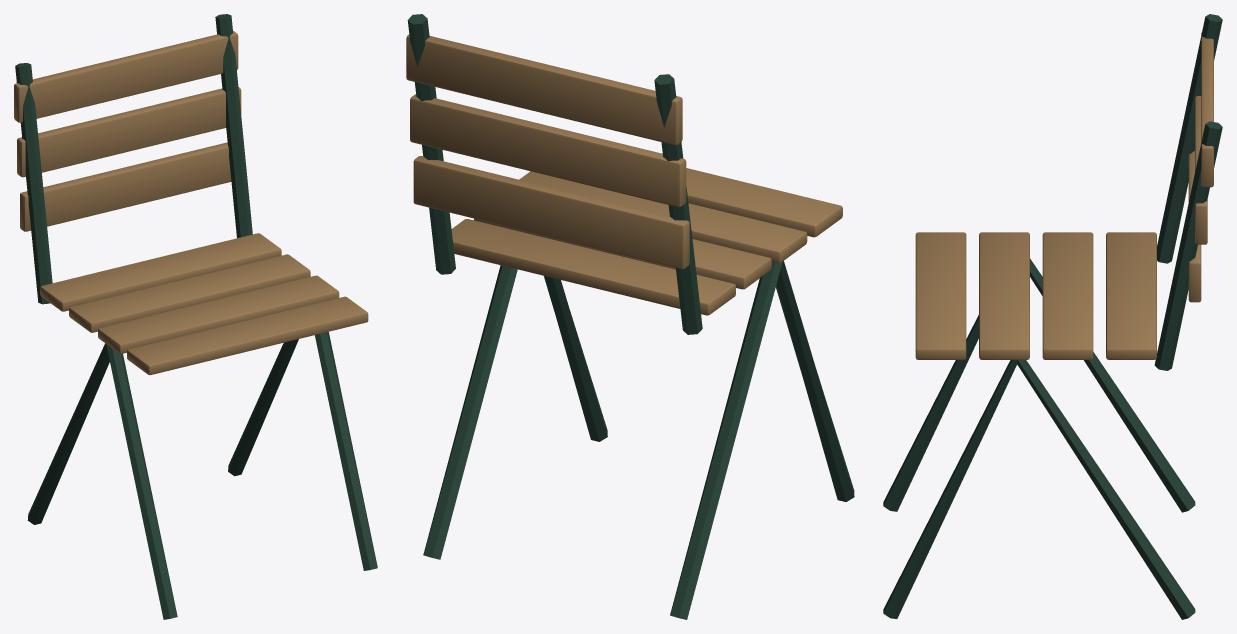
File: mae_terrace_chair.glb
The picture shows the model from 3 angles, left to right: view 1: azimuth 30°, elevation 25°; view 2: azimuth 150°, elevation 25°; view 3: azimuth 270°, elevation 25°; orthographic projection. The views are drawn at different scales.
Parts seen in each view (by area): view 1: mae_terrace_chair; view 2: mae_terrace_chair; view 3: mae_terrace_chair.
Part boxes in pixels (<box>): mae_terrace_chair: <box>14,14,377,619</box>; mae_terrace_chair: <box>406,14,854,619</box>; mae_terrace_chair: <box>883,14,1222,619</box>.
Size of the model in its own units: 0.44 by 0.8589 by 0.5348.
